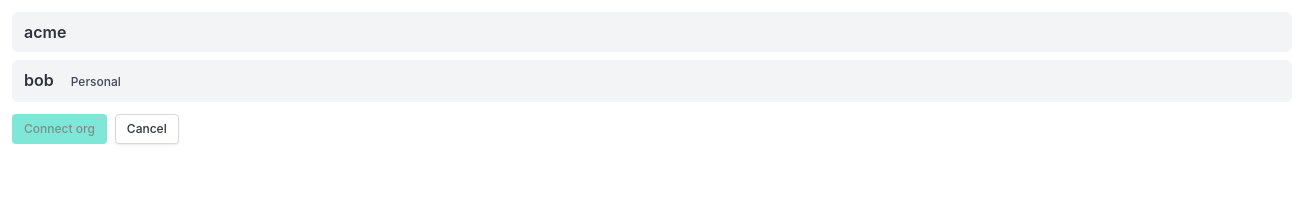
Test case: OrgLinkModal — connect action › shows error when update_project_org_login fails
Expected: the text "acme" is shown, [24,22,66,42]
Click the option "acme".
click(45, 32)  # box [12,12,1292,52]
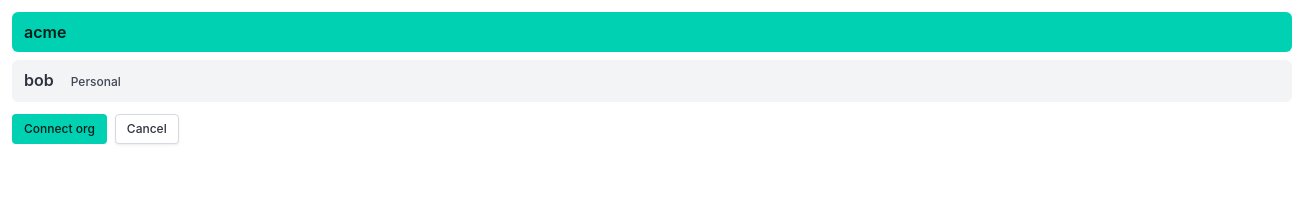
Click the button "Connect org".
click(59, 129)  # box [12,114,107,144]
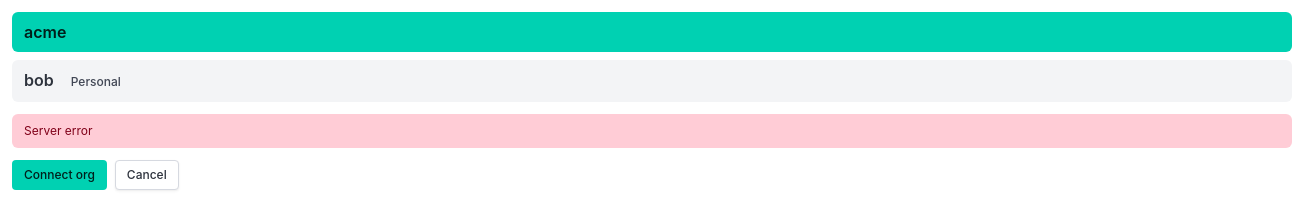
Expected: the message "Server error" is shown, [12,114,1292,148]
